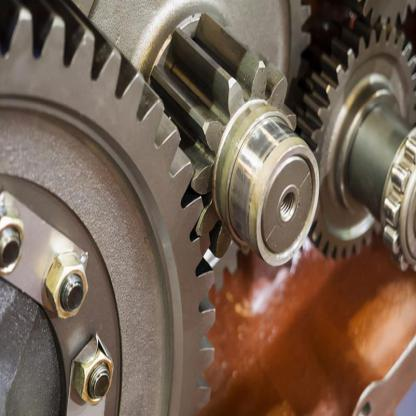FOD: (0, 0, 214, 415), (149, 11, 301, 295), (296, 18, 416, 267)
